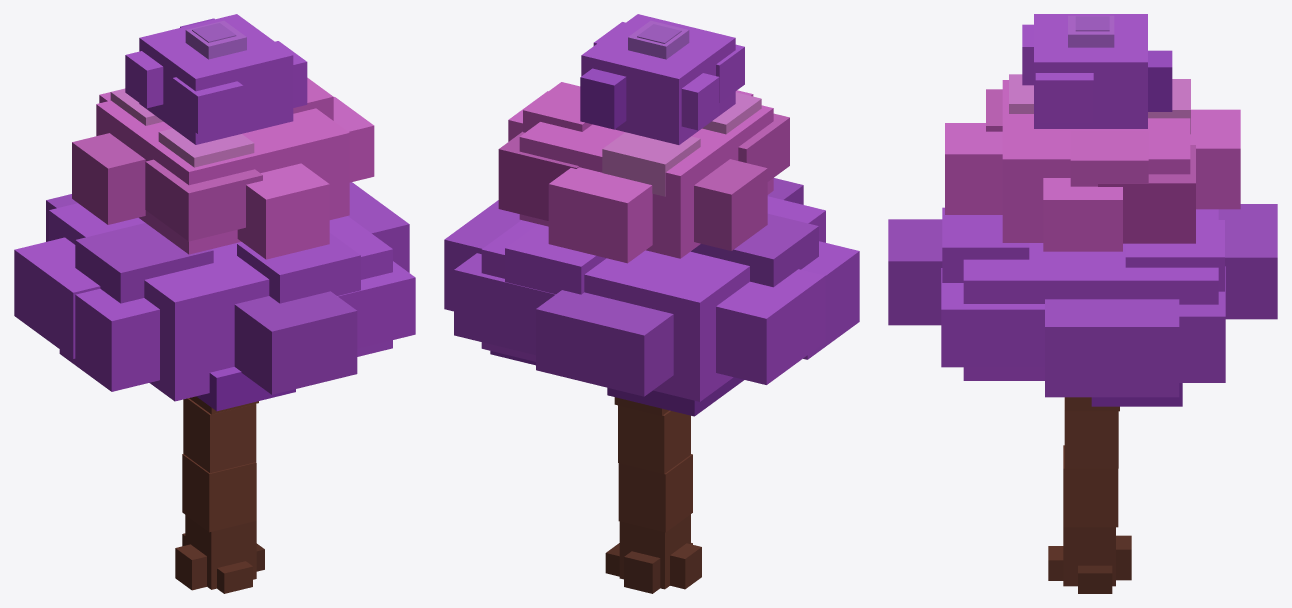
File: candy_tree.glb
3 renders of one model, left to right at view 1: azimuth 30°, elevation 25°; view 2: azimuth 150°, elevation 25°; view 3: azimuth 270°, elevation 25°, orthographic.
Visible parts, largest first — view 1: candy_tree; view 2: candy_tree; view 3: candy_tree.
Boxes of the visible parts, x1=… form: candy_tree: x1=14, y1=14, x2=415, y2=593; candy_tree: x1=444, y1=14, x2=859, y2=593; candy_tree: x1=888, y1=14, x2=1277, y2=593.
Size of the model in its own units: 3.51 by 5.6 by 3.6.
